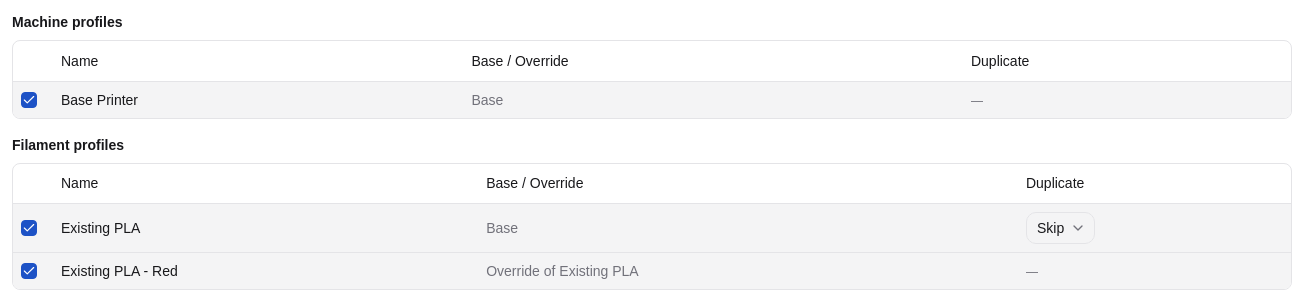
it: ProfileReviewList › choosing "Import as new" for a duplicate updates its duplicate action
The width and height of the screenshot is (1292, 307).
Click the dropdown named "Duplicate action for Existing PLA".
click(1061, 228)  # box [1026,212,1095,244]
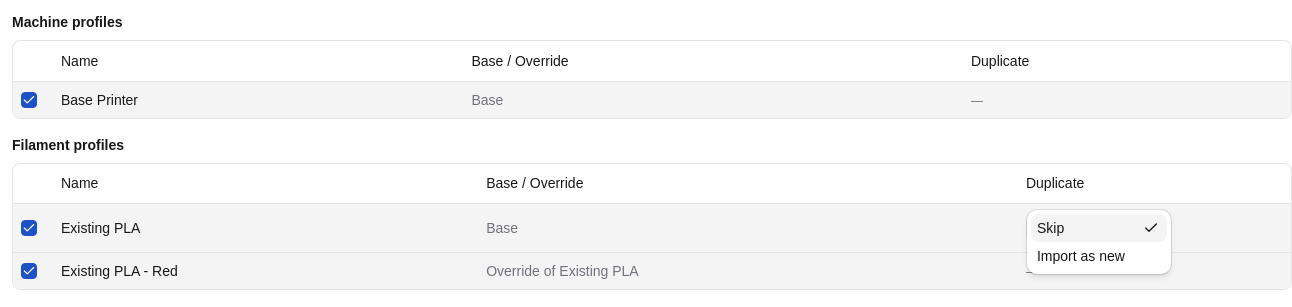
Click the option "Import as new".
click(1081, 256)  # box [1037,248,1125,264]
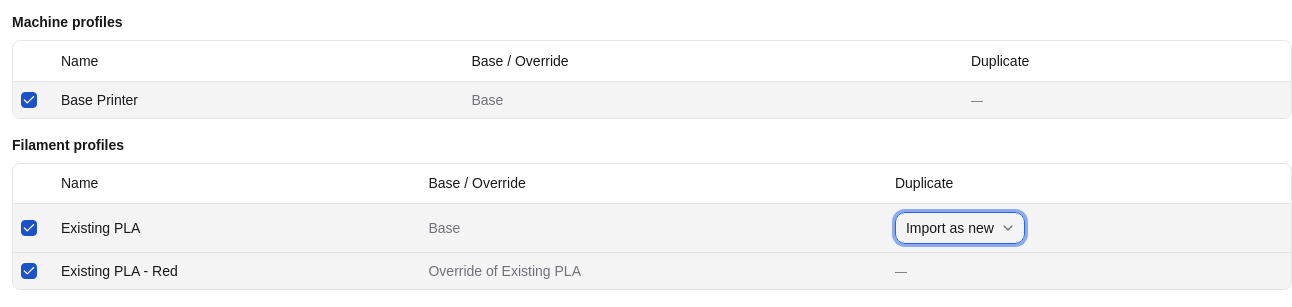
Expected: the dropdown named "Duplicate action for Existing PLA" reads "Import as new", [895,212,1025,244]
